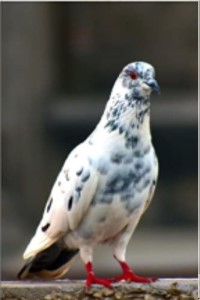pigeon: (17, 59, 165, 294)
